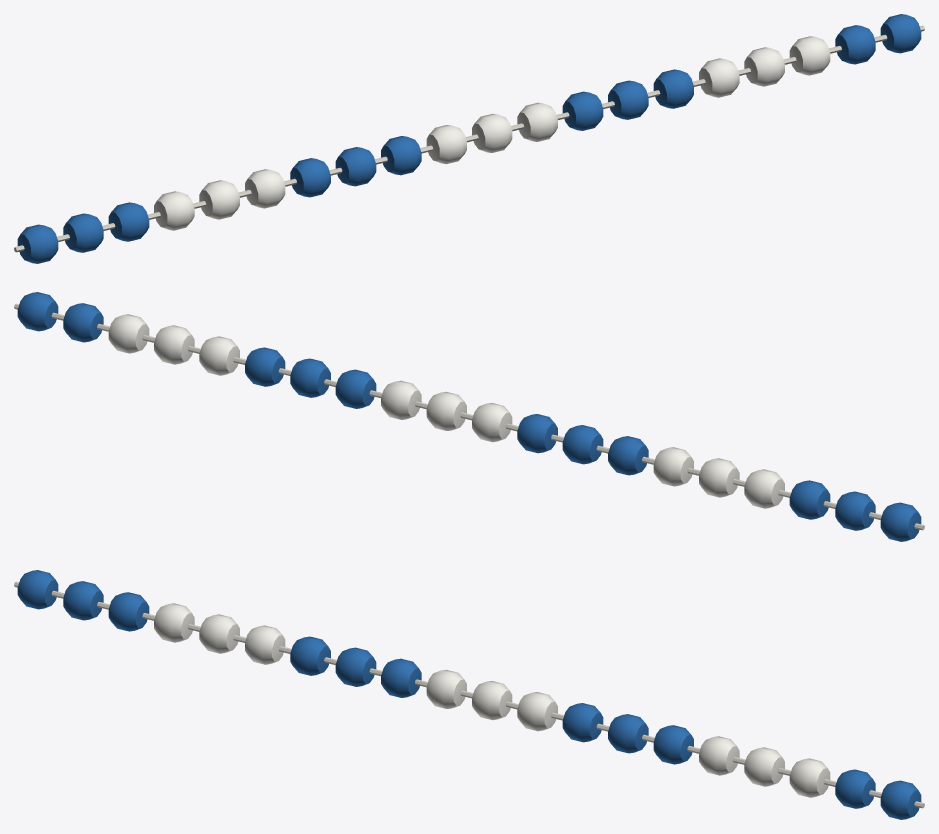
File: lane_rope.glb
3 views of the same model, one above another, from view 1: azimuth 30°, elevation 25°; view 2: azimuth 150°, elevation 25°; view 3: azimuth 330°, elevation 25° (orthographic).
Visible parts, largest first — view 1: LaneRope; view 2: LaneRope; view 3: LaneRope.
Part boxes in pixels (left/top/right/bottom): LaneRope: left=14, top=14, right=924, bottom=263; LaneRope: left=14, top=292, right=924, bottom=541; LaneRope: left=14, top=570, right=924, bottom=819.
Bounding box in the file's own units: 3 × 0.11 × 0.1046.
